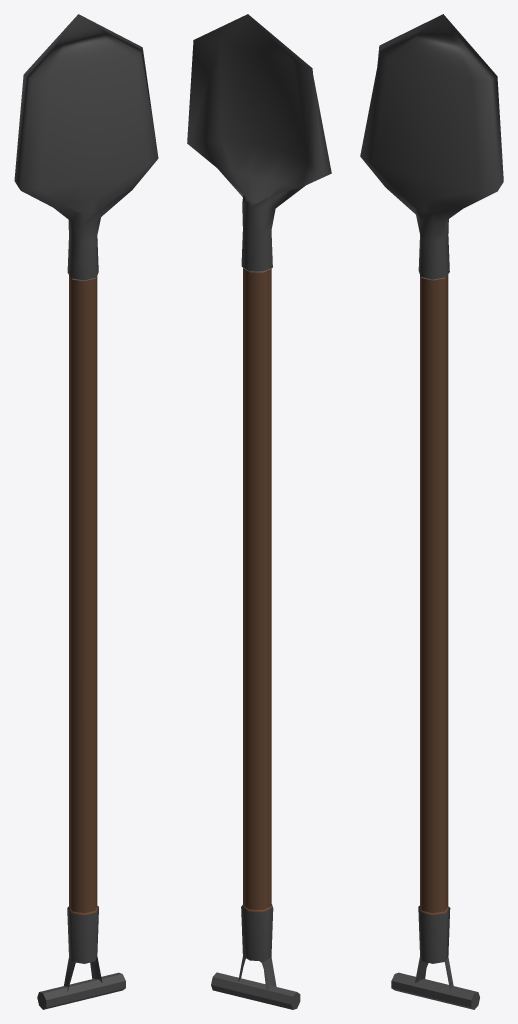
File: Shovel.fbx
3 renders of one model, left to right at view 1: azimuth 30°, elevation 25°; view 2: azimuth 150°, elevation 25°; view 3: azimuth 330°, elevation 25°, orthographic.
Parts seen in each view (by area): view 1: Shovel; view 2: Shovel; view 3: Shovel.
Part boxes in pixels (box(x1,y1,x2,y2)): Shovel: box(14, 14, 158, 1009); Shovel: box(187, 14, 331, 1009); Shovel: box(360, 14, 503, 1009).
Bounding box in the file's own units: 17.39 × 118 × 4.52.
1 material, 1 textured.
